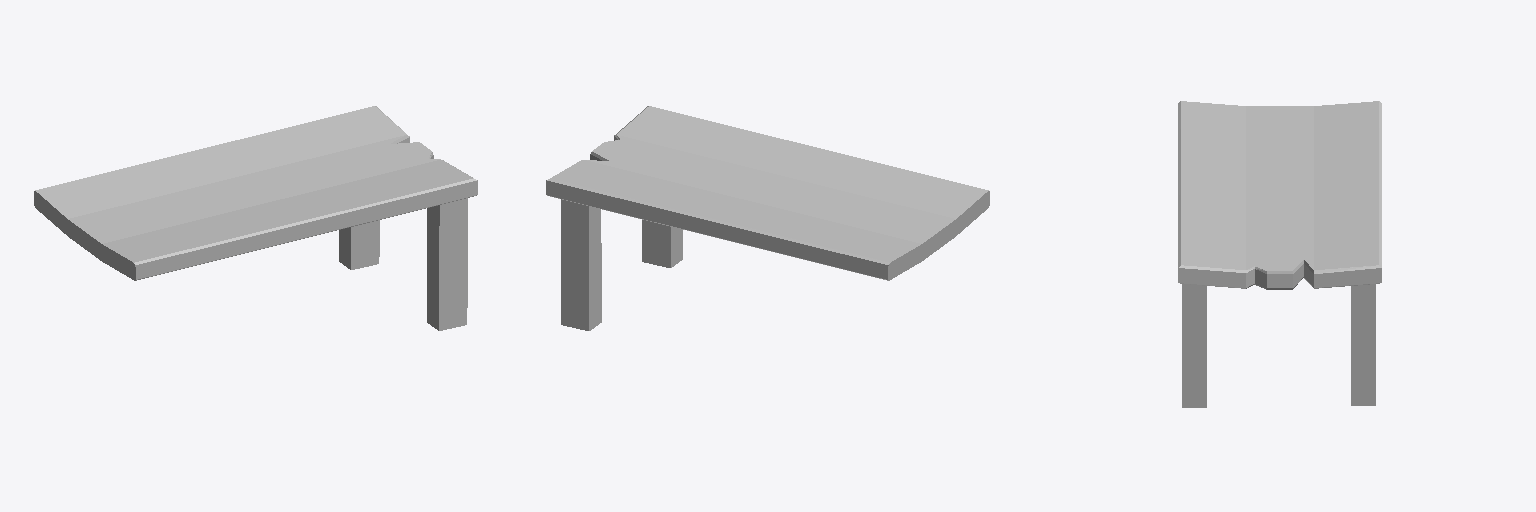
File: tableHP.obj
The picture shows the model from 3 angles: view 1: azimuth 30°, elevation 25°; view 2: azimuth 150°, elevation 25°; view 3: azimuth 270°, elevation 25°; orthographic projection.
Parts seen in each view (by area): view 1: default; view 2: default; view 3: default.
Boxes of the visible parts, x1=… form: default: x1=34, y1=106, x2=477, y2=330; default: x1=546, y1=106, x2=989, y2=330; default: x1=1178, y1=101, x2=1381, y2=407.
Size of the model in its own units: 5.81 by 2.36 by 2.99.